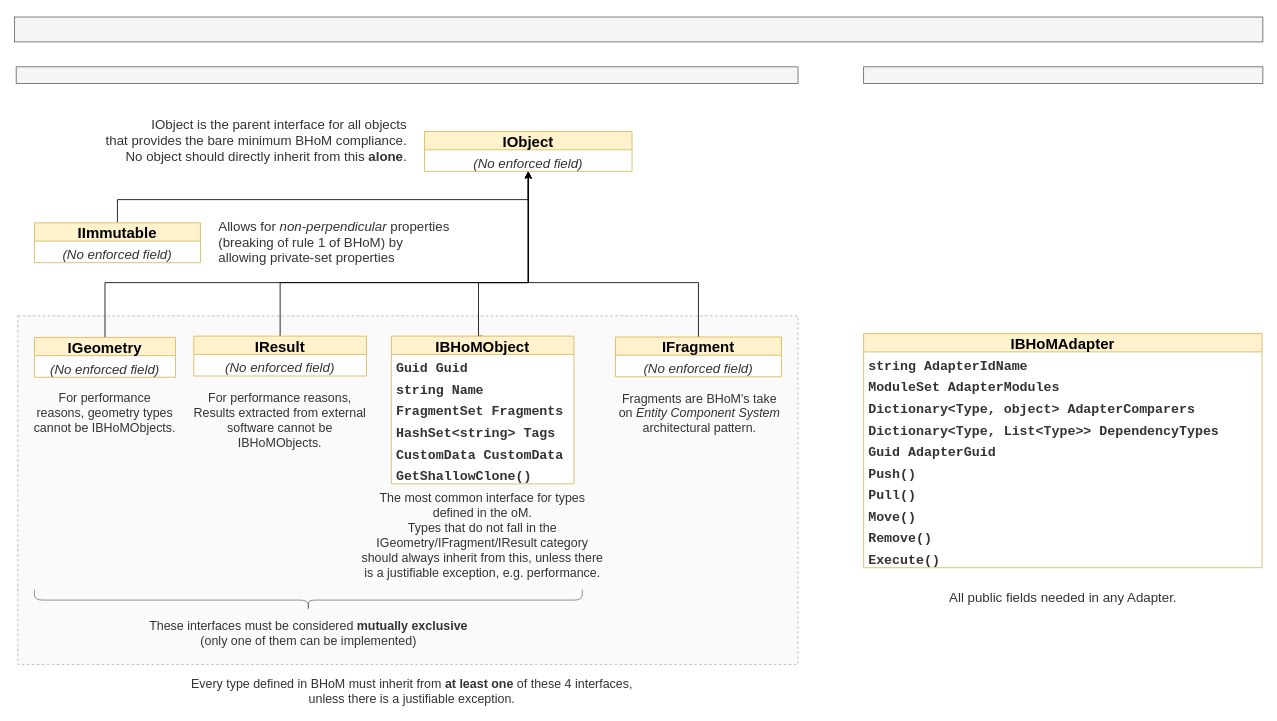
The diagram is 1277 pixels wide and 721 high, and some of its shapes have lost their labels. Each missing label, with the centre of its shape:
Base BHoM interfaces: (x=638, y=29)
Interface for Adapter only: (x=1063, y=74)
Interfaces for oM: (x=406, y=74)
